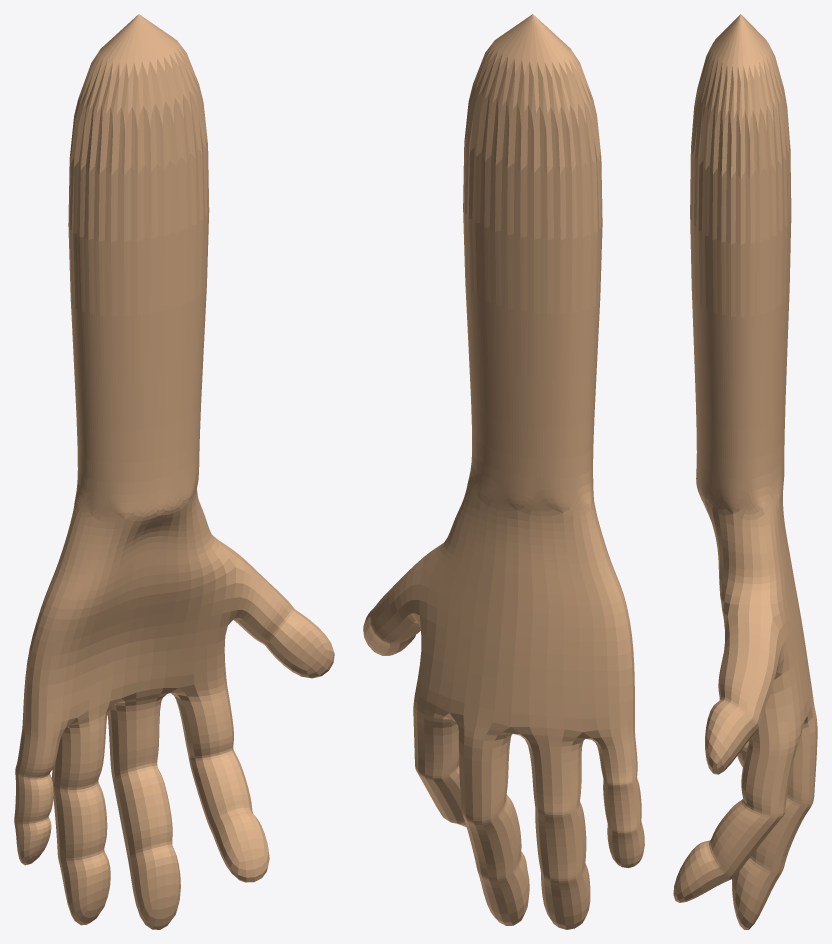
File: Hand.fbx
The picture shows the model from 3 angles, left to right: view 1: azimuth 30°, elevation 25°; view 2: azimuth 150°, elevation 25°; view 3: azimuth 270°, elevation 25°; orthographic projection. The views are drawn at different scales.
Visible parts, largest first — view 1: Cube.005; view 2: Cube.005; view 3: Cube.005.
Part boxes in pixels (x1,y1,x2,y2): Cube.005: (14, 14, 334, 929); Cube.005: (363, 14, 644, 929); Cube.005: (673, 14, 817, 929).
Size of the model in its own units: 997 by 2952 by 426.
